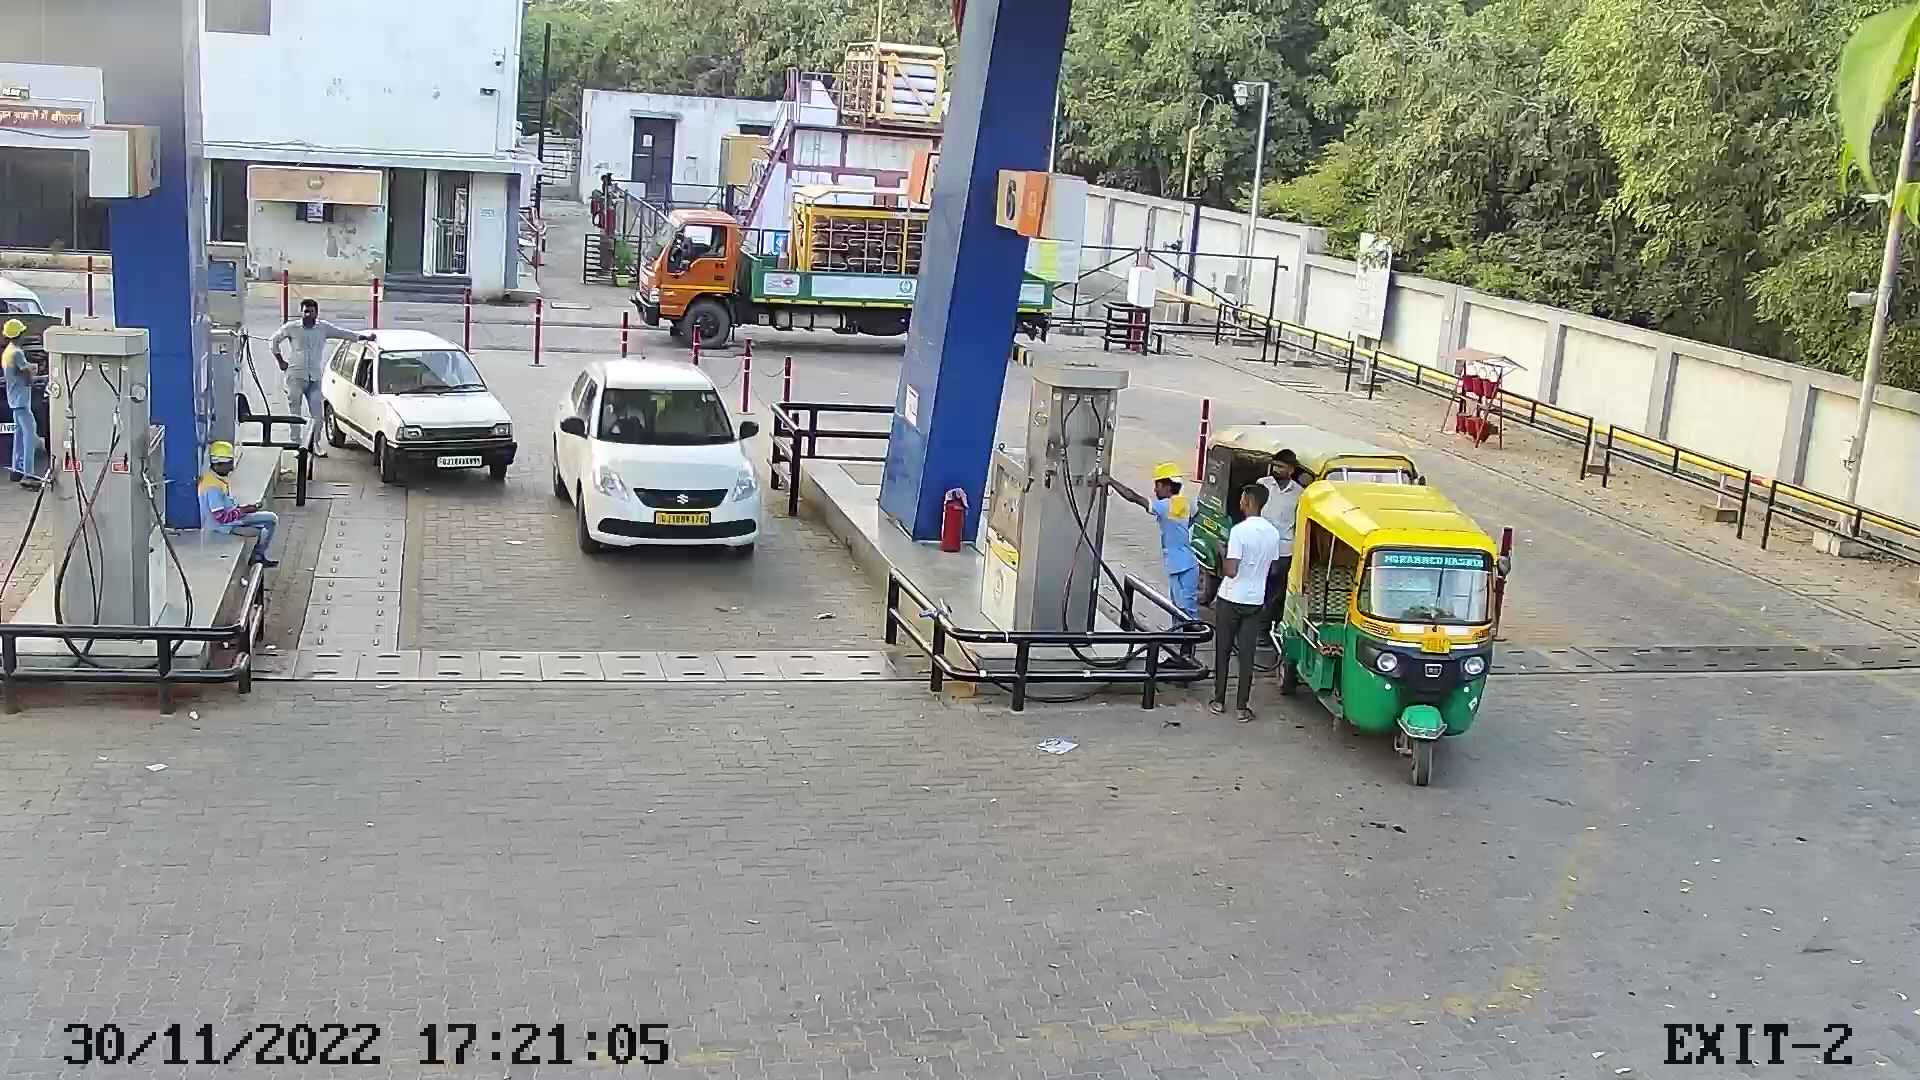Auto: (1254, 467, 1523, 796), (1175, 417, 1432, 659)
Car: (539, 349, 774, 570), (297, 313, 526, 489), (1, 262, 71, 473)
HMV: (622, 170, 936, 351)
Others: (1113, 455, 1217, 674), (190, 434, 289, 574), (1, 306, 53, 495)
